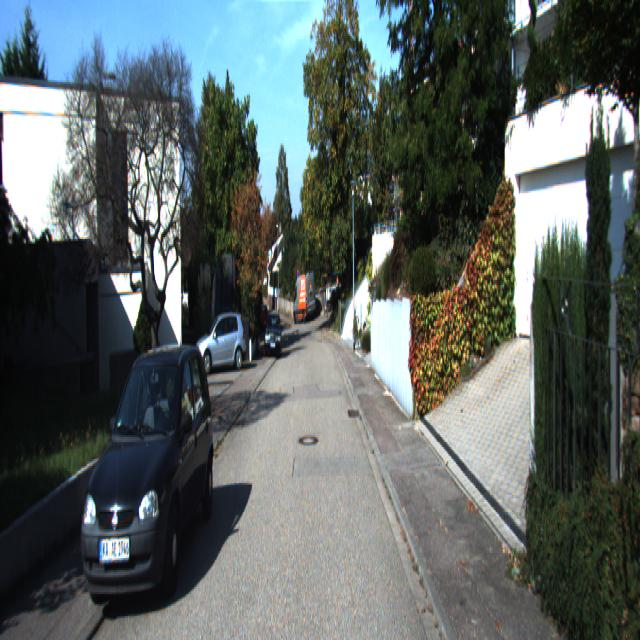Car: (74, 338, 216, 621), (194, 309, 248, 374), (293, 270, 317, 324), (264, 310, 283, 356)
